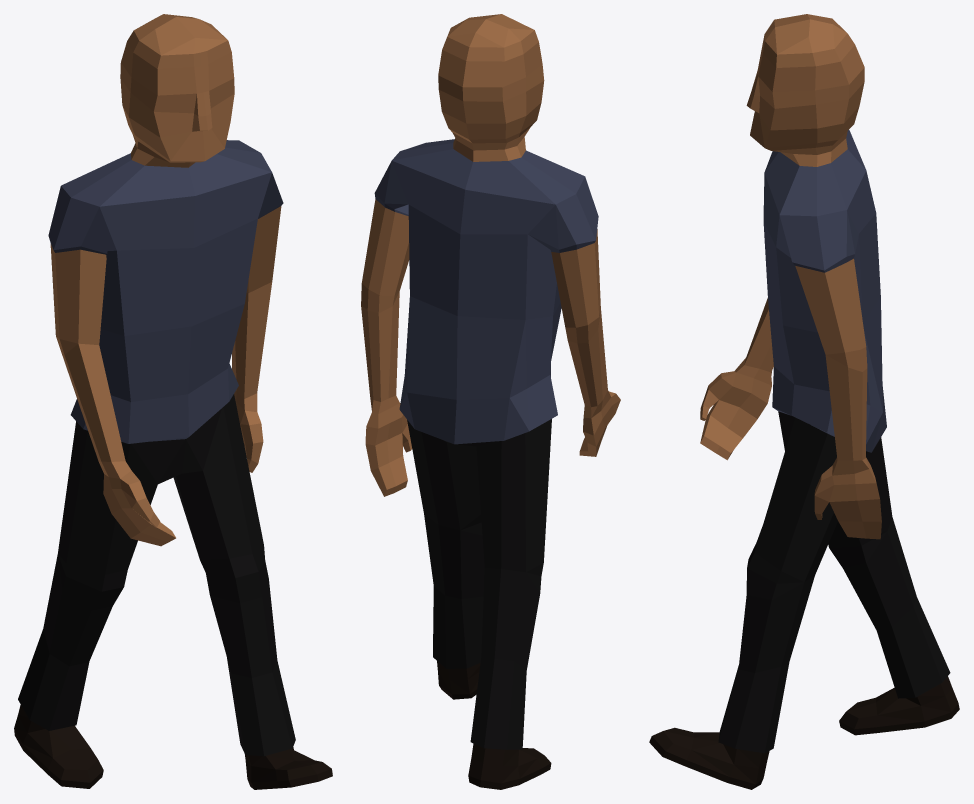
File: Male_Walking.obj
3 renders of one model, left to right at view 1: azimuth 30°, elevation 25°; view 2: azimuth 150°, elevation 25°; view 3: azimuth 270°, elevation 25°, orthographic. The views are drawn at different scales.
Parts seen in each view (by area): view 1: Male_Walking_Human_CylinderMesh.009; view 2: Male_Walking_Human_CylinderMesh.009; view 3: Male_Walking_Human_CylinderMesh.009.
Part boxes in pixels (x1,y1,x2,y2): Male_Walking_Human_CylinderMesh.009: (14,14,332,789); Male_Walking_Human_CylinderMesh.009: (361,14,620,789); Male_Walking_Human_CylinderMesh.009: (649,14,959,789).
Size of the model in its own units: 1.22 by 3.84 by 1.46.
